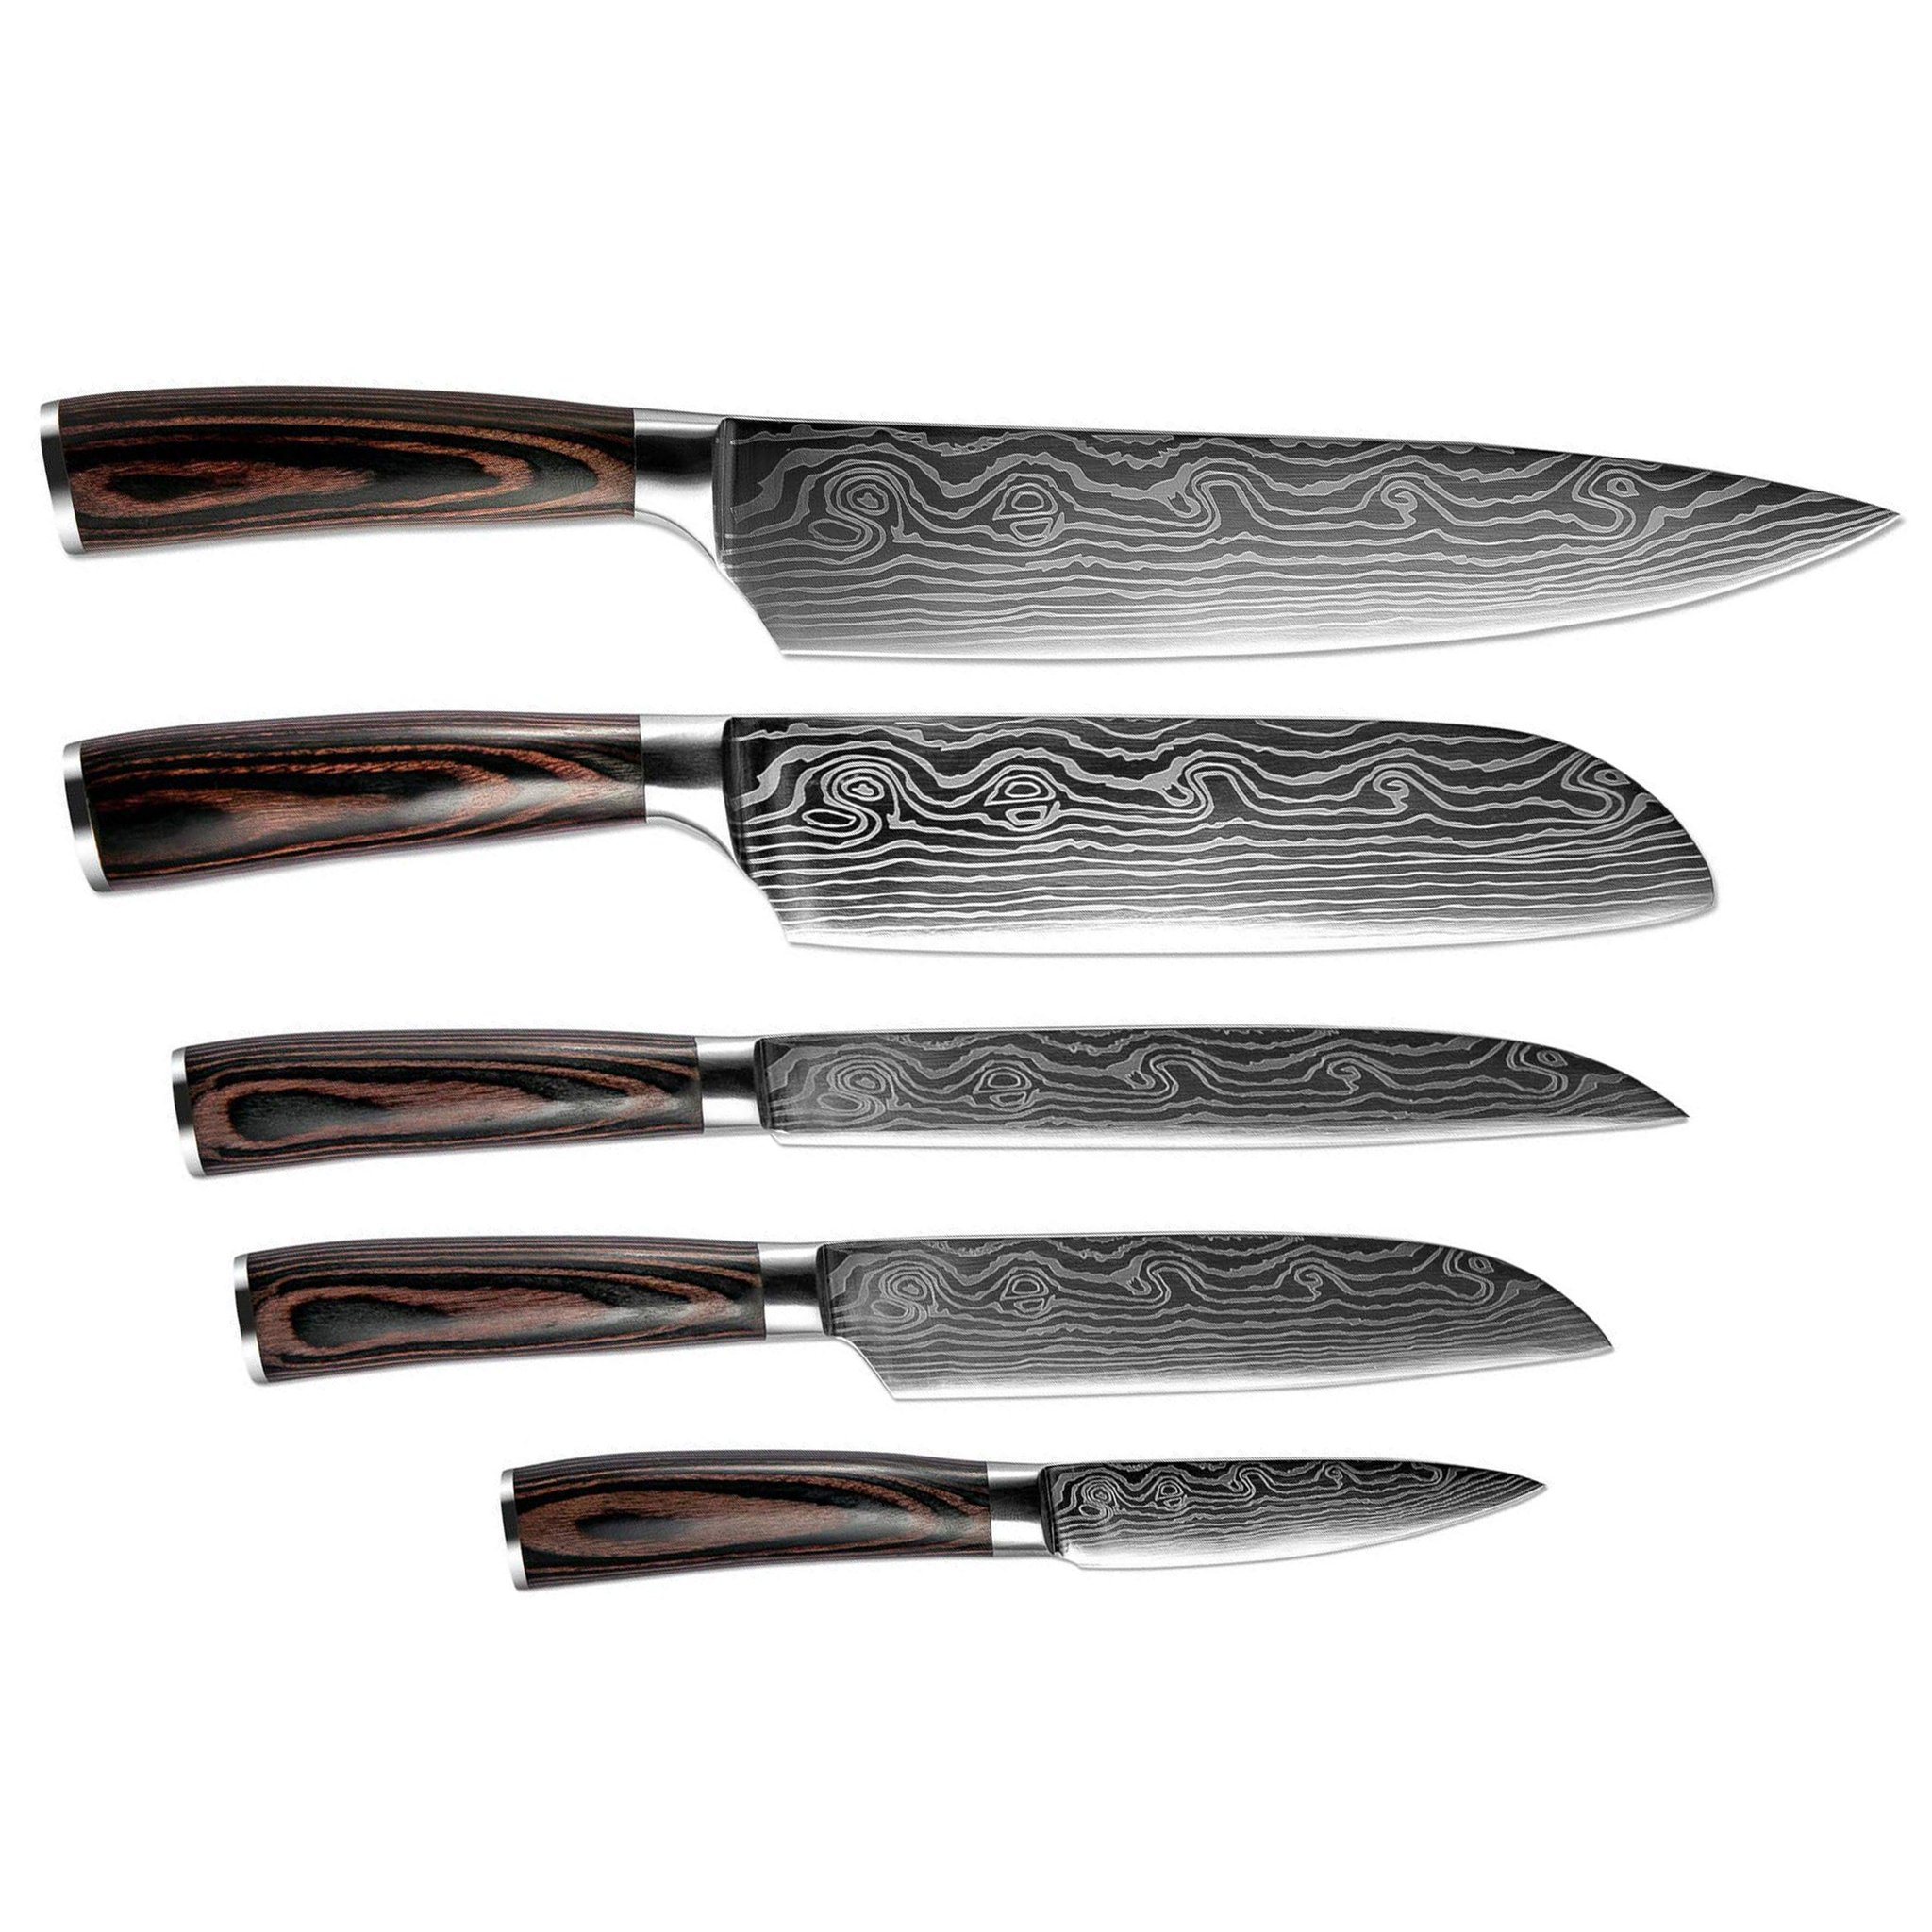knife: (30, 379, 1923, 669), (163, 1030, 1695, 1187), (218, 1233, 1619, 1399), (501, 1453, 1545, 1591)
